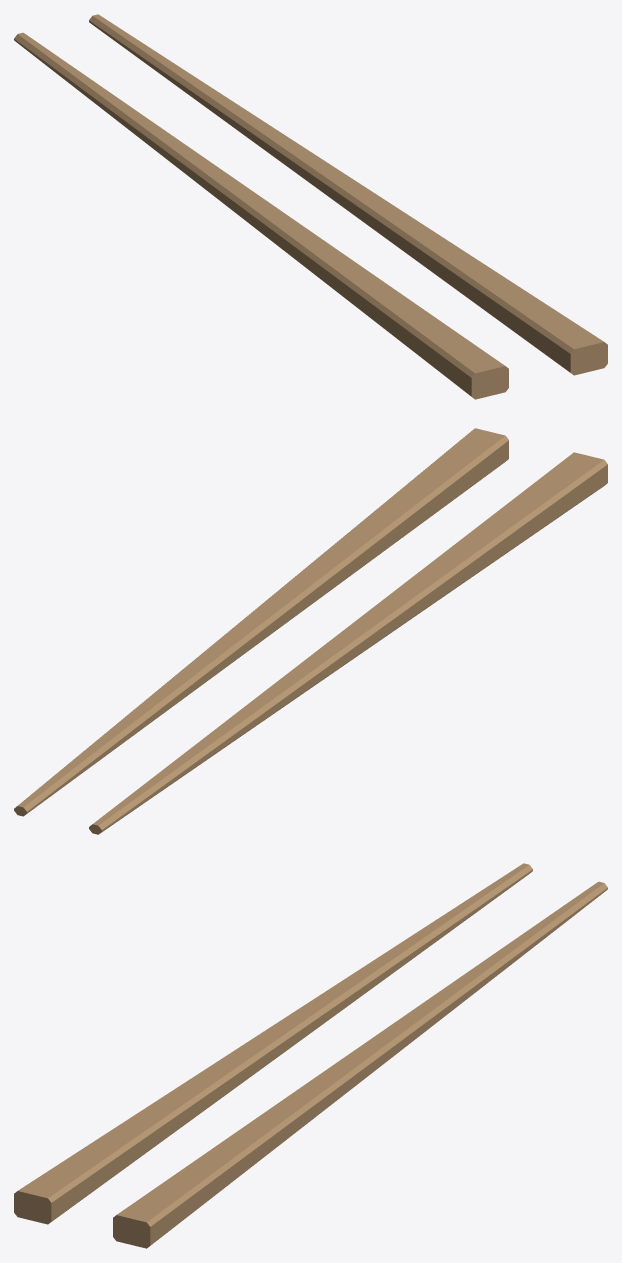
Rendered from chopsticks.fbx.
The picture shows the model from 3 angles, top to bottom: view 1: azimuth 30°, elevation 25°; view 2: azimuth 150°, elevation 25°; view 3: azimuth 330°, elevation 25°; orthographic projection.
Visible parts, largest first — view 1: chopsticks; view 2: chopsticks; view 3: chopsticks.
Part boxes in pixels (box(x1,y1,x2,y2)): chopsticks: box(14, 14, 607, 399); chopsticks: box(14, 428, 607, 834); chopsticks: box(14, 863, 607, 1248).
Bounding box in the file's own units: 14.41 × 2.86 × 88.23.
Materials: 1 (1 with a texture image).
